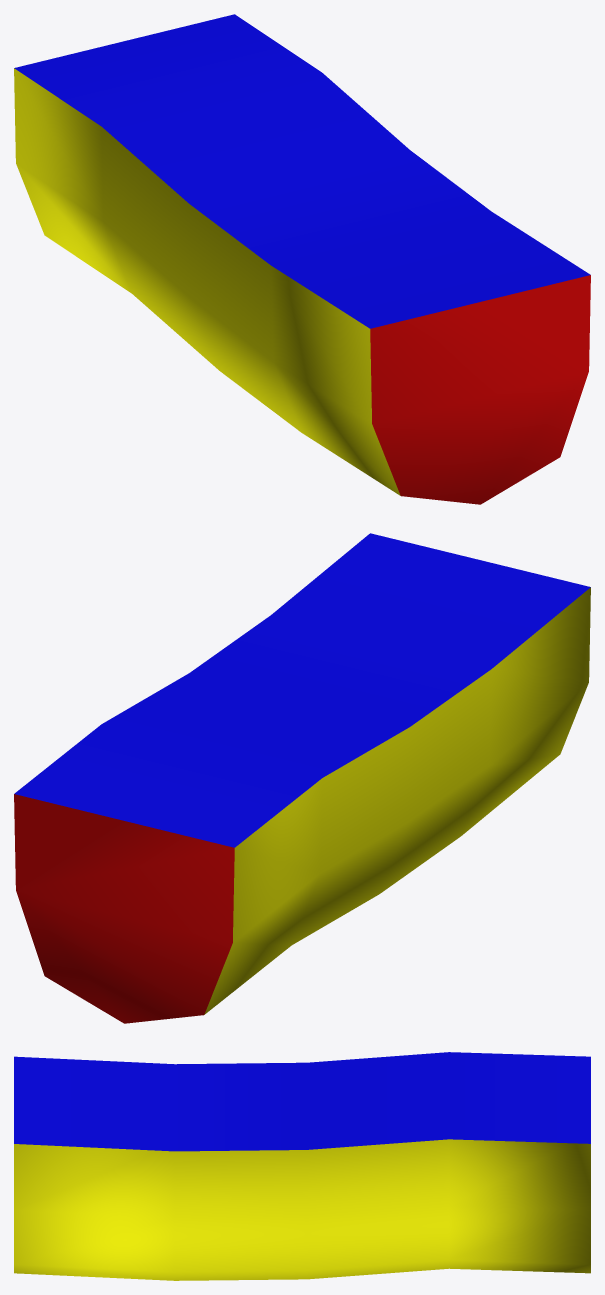
The picture shows the model from 3 angles, top to bottom: view 1: azimuth 30°, elevation 25°; view 2: azimuth 150°, elevation 25°; view 3: azimuth 270°, elevation 25°; orthographic projection. The views are drawn at different scales.
Visible parts, largest first — view 1: polySurface139; view 2: polySurface139; view 3: polySurface139.
Part boxes in pixels (left/top/right/bottom): polySurface139: left=14, top=14, right=590, bottom=504; polySurface139: left=14, top=533, right=590, bottom=1023; polySurface139: left=14, top=1052, right=590, bottom=1280.
Size of the model in its own units: 23.58 by 22.22 by 65.9.
